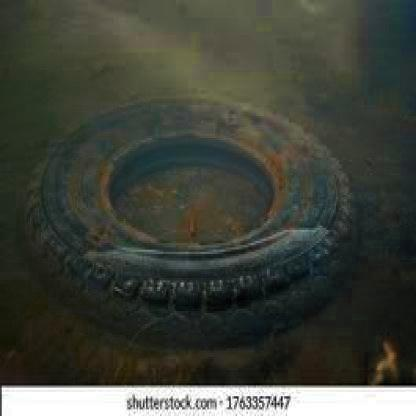tire: (38, 90, 364, 324)
